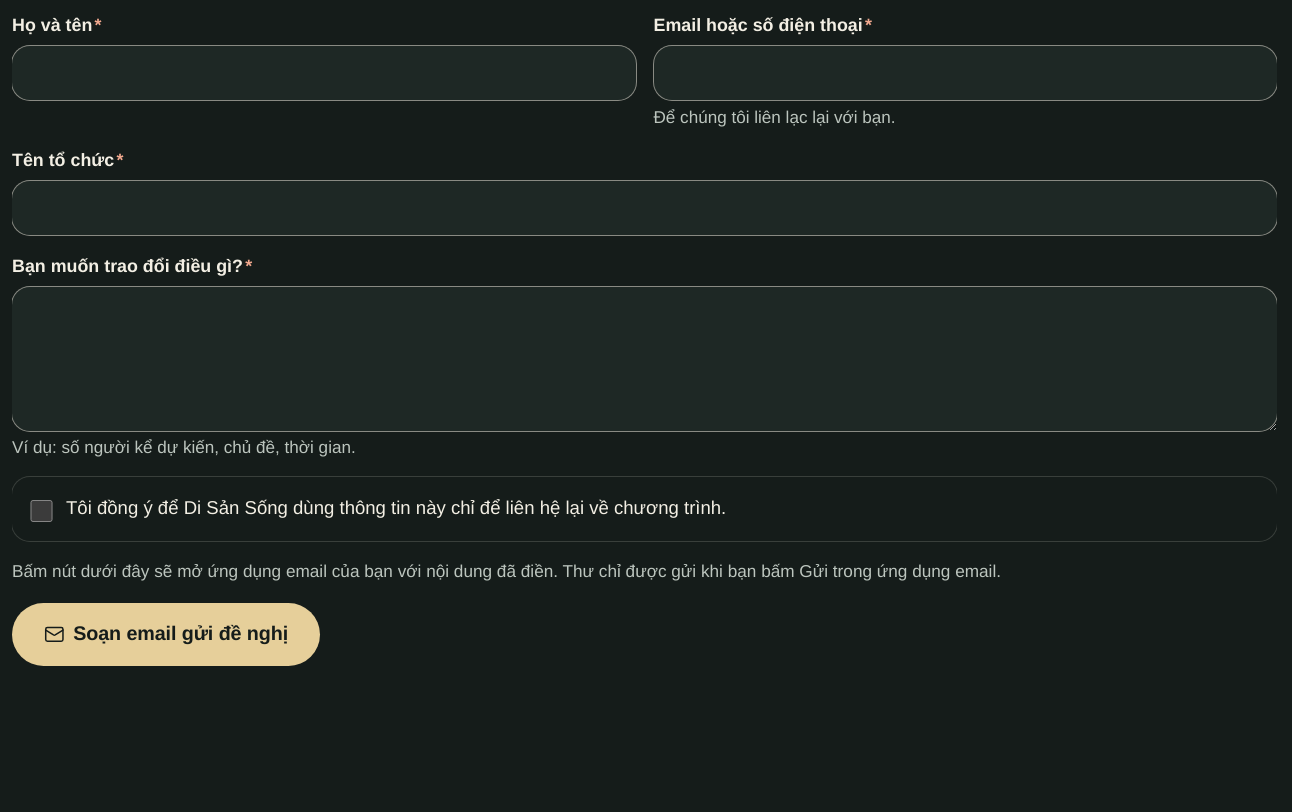
Test: OrgContactForm › validates, then opens the mail app and never claims the request was sent
This screenshot has width=1292, height=812.
Click the button "Soạn email gửi đề nghị": x=166, y=634 [12,603,320,666]
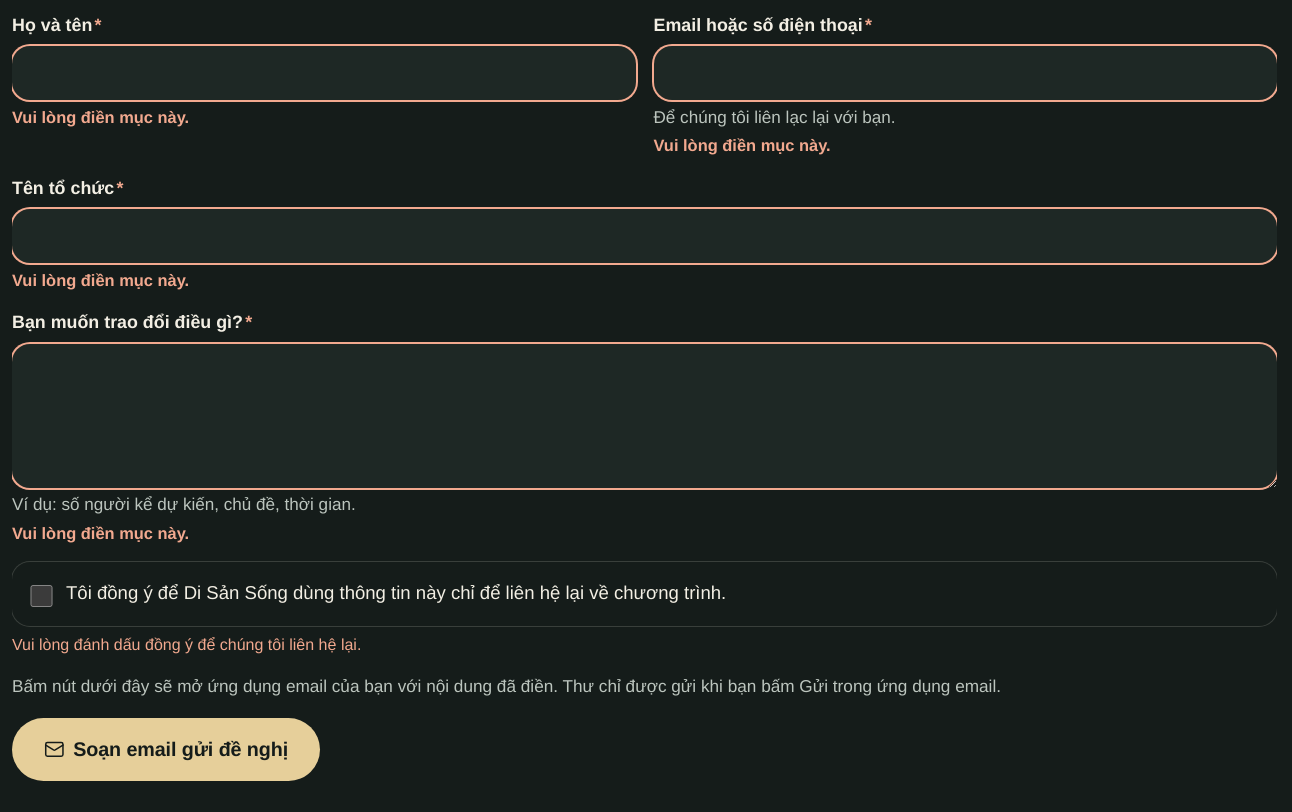
In the field labelled "Họ và tên*": x=324, y=73 [12,46,636,100], type "Lan"
In the field labelled "Email hoặc số điện thoại*": x=965, y=73 [654,46,1277,100], type "lan@thuvien.vn"
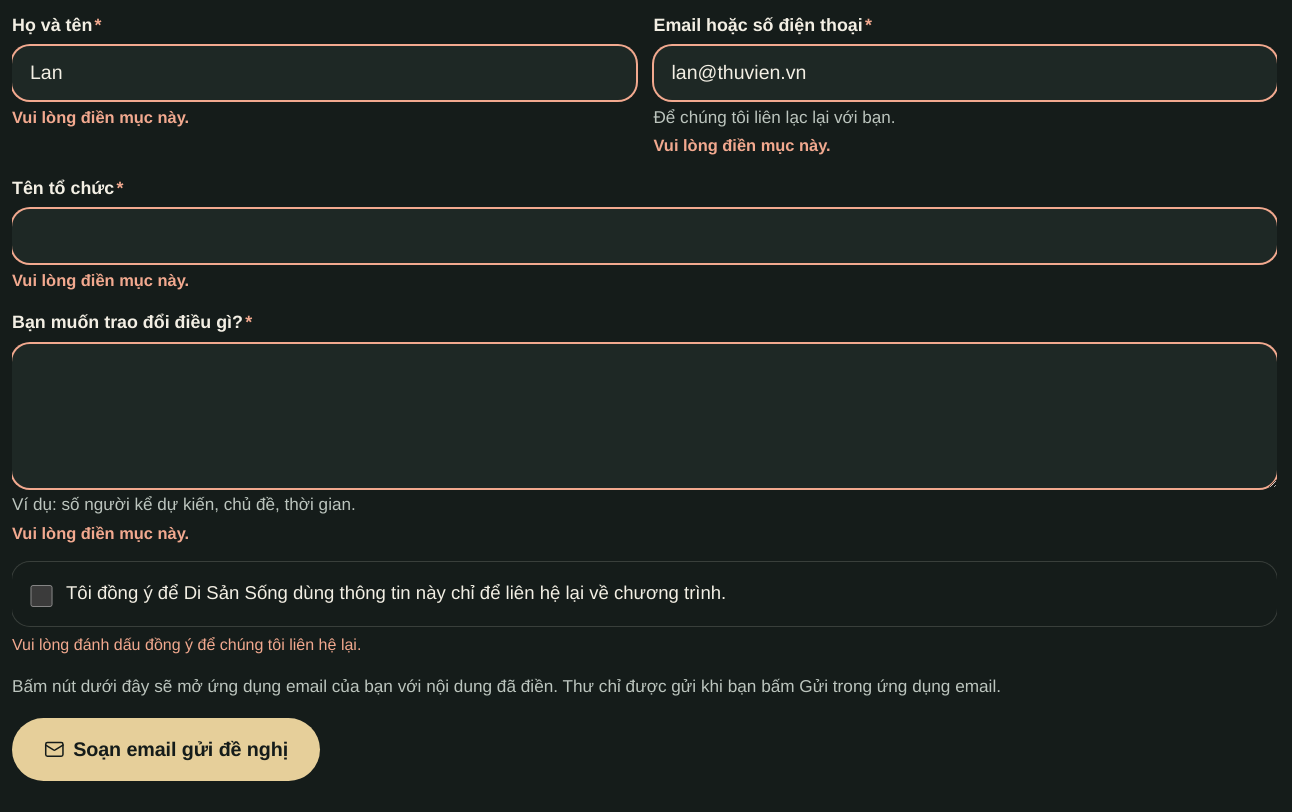
In the field labelled "Tên tổ chức*": x=644, y=236 [12,209,1277,263], type "Thư viện tỉnh"
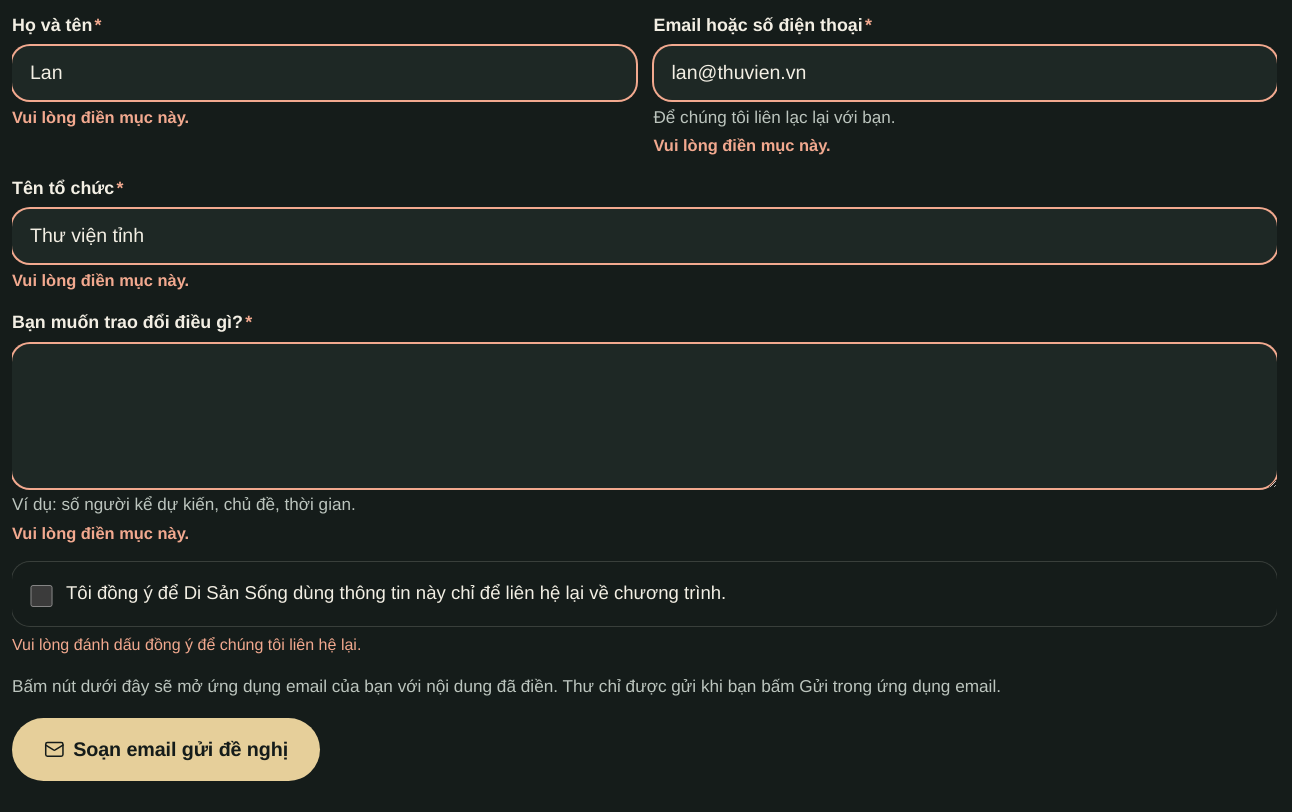
In the text box labelled "Bạn muốn trao đổi điều gì?*": x=644, y=416 [12,344,1277,488], type "Ghi lời kể"
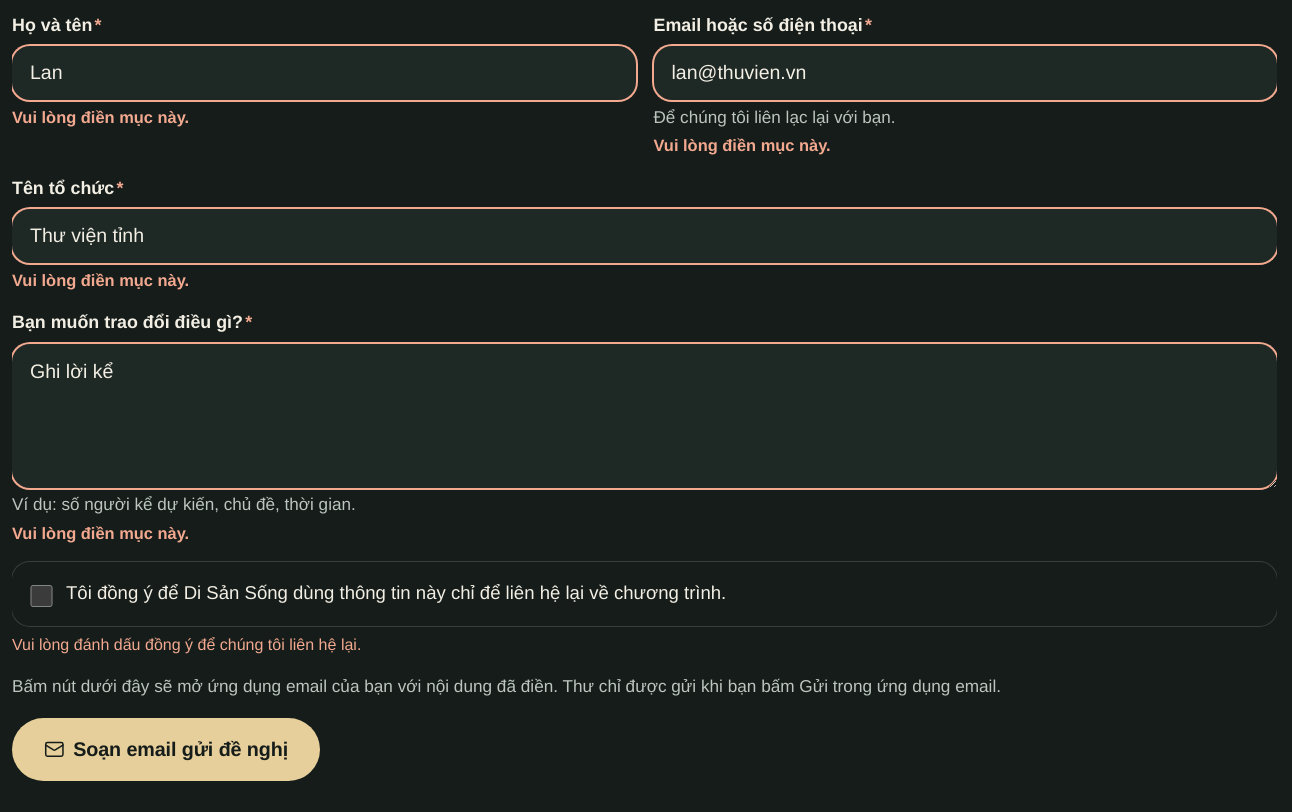
Click the checkbox: x=41, y=596 [30,585,52,607]
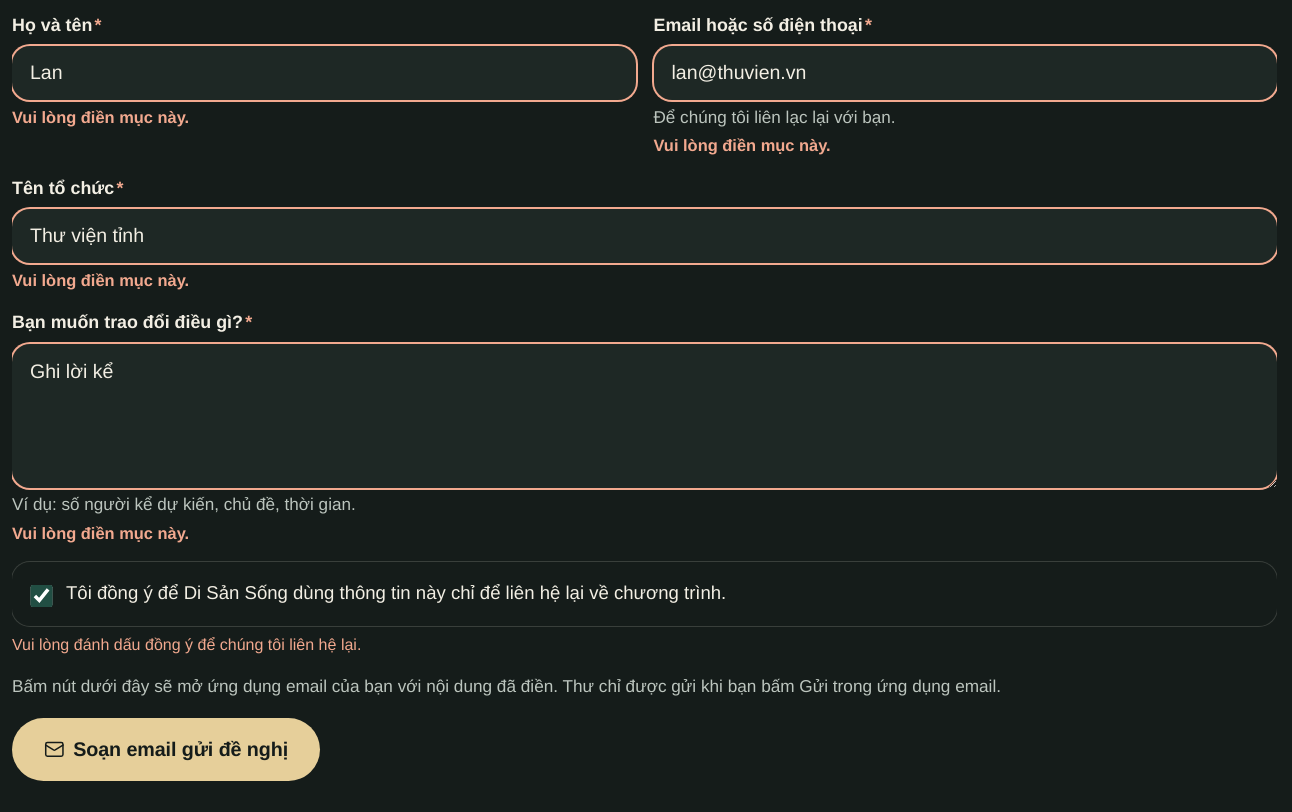
Click the button "Soạn email gửi đề nghị": x=166, y=750 [12,718,320,781]
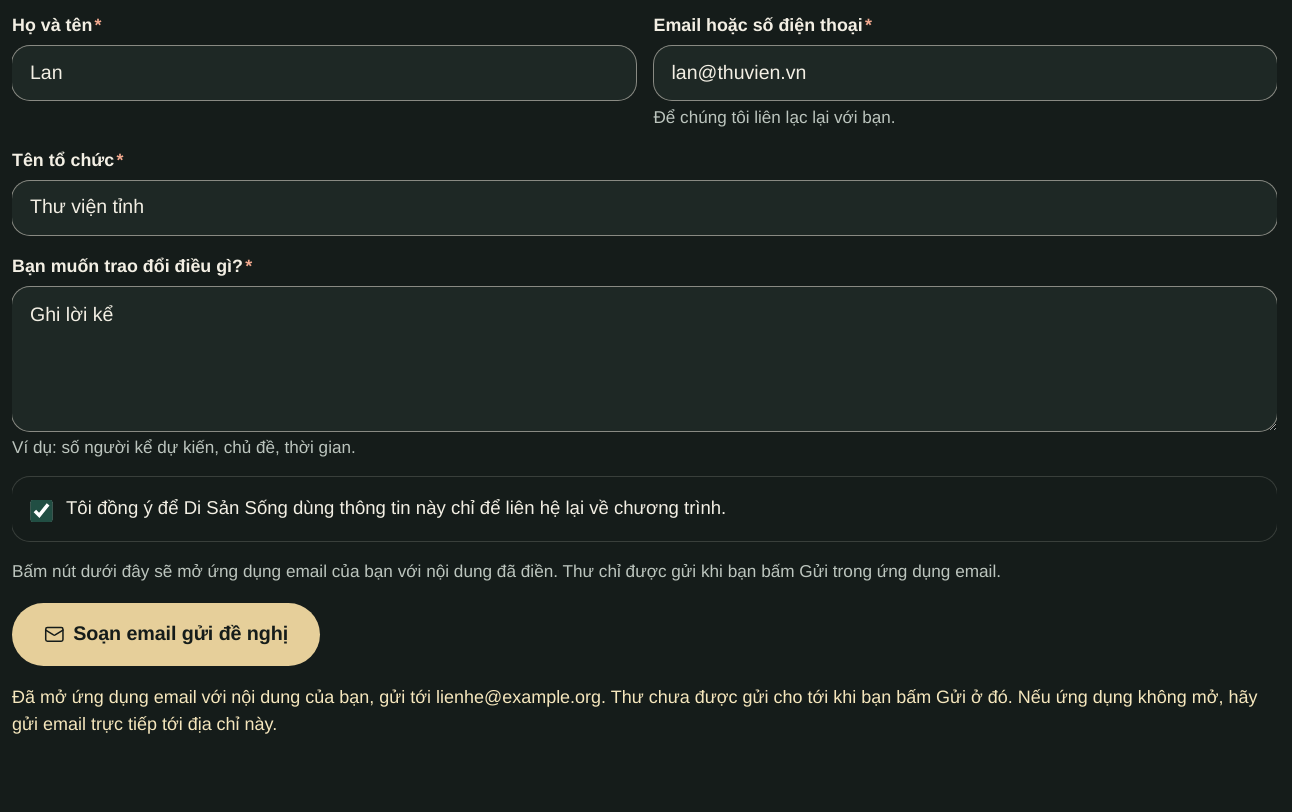
Check: the message shows "chưa được gửi", box [12,686,1257,734]
